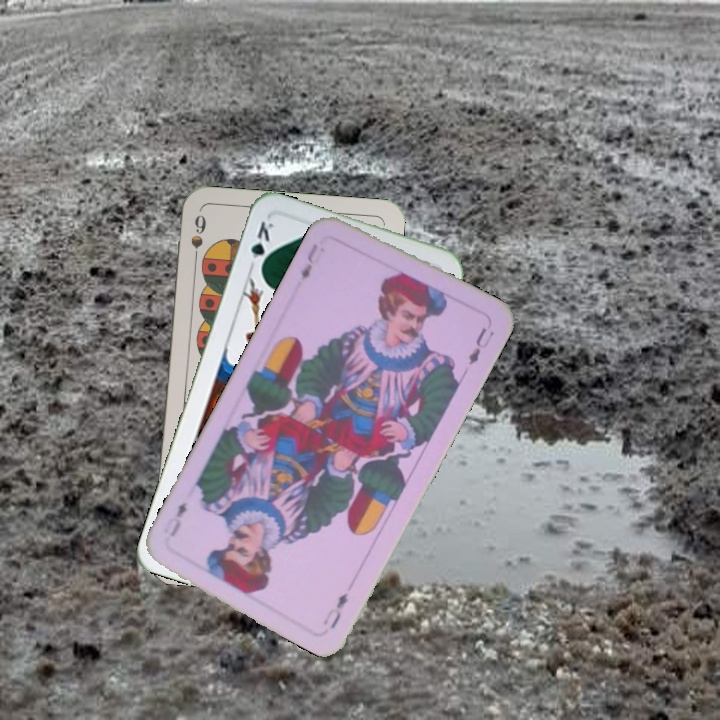EU: (319, 588, 351, 632), (296, 239, 322, 283)
GK: (245, 217, 277, 275)
S9: (186, 210, 209, 269)
